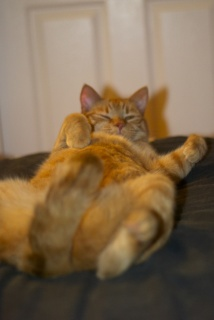Cat: (0, 82, 206, 280)
